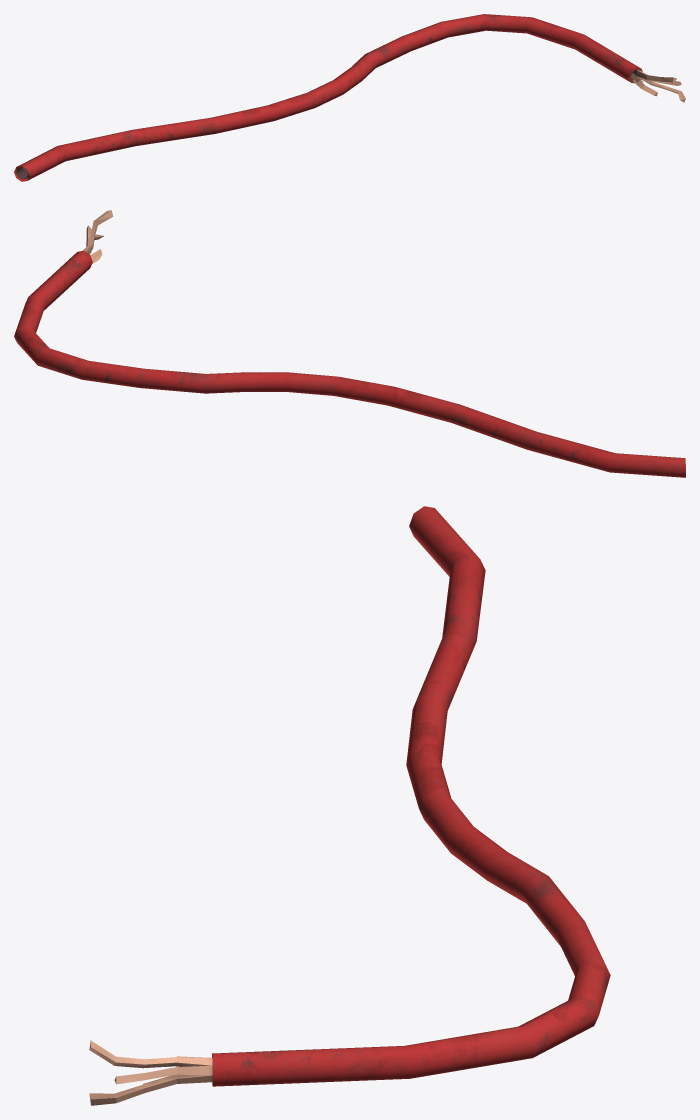
File: cables.fbx
3 views of the same model, one above another, from view 1: azimuth 30°, elevation 25°; view 2: azimuth 150°, elevation 25°; view 3: azimuth 270°, elevation 25° (orthographic). The views are drawn at different scales.
Parts seen in each view (by area): view 1: Loft001, Loft002; view 2: Loft001, Loft002; view 3: Loft001, Loft002.
Part boxes in pixels (bbox=[...]): Loft001: bbox=[14, 14, 642, 181]; Loft002: bbox=[631, 70, 685, 102]; Loft001: bbox=[14, 250, 685, 477]; Loft002: bbox=[82, 210, 113, 263]; Loft001: bbox=[212, 506, 610, 1086]; Loft002: bbox=[89, 1040, 212, 1105].
Bounding box in the file's own units: 426 × 19.02 × 164.
1 material, 1 textured.
